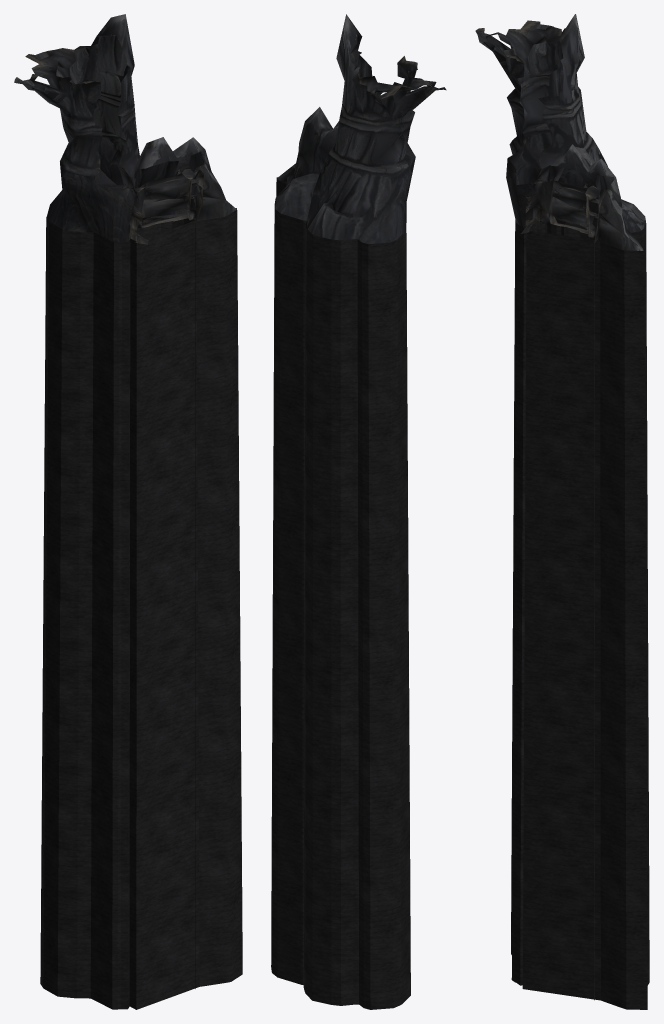
File: horaro_rock_pillar_3.glb
3 renders of one model, left to right at view 1: azimuth 30°, elevation 25°; view 2: azimuth 150°, elevation 25°; view 3: azimuth 330°, elevation 25°, orthographic.
Parts seen in each view (by area): view 1: horaro_rock_pillar_3_L1_foundation, horaro_rock_pillar_3; view 2: horaro_rock_pillar_3_L1_foundation, horaro_rock_pillar_3; view 3: horaro_rock_pillar_3_L1_foundation, horaro_rock_pillar_3.
Boxes of the visible parts, x1,y1,x2,y2 form: horaro_rock_pillar_3_L1_foundation: [40, 207, 242, 1009]; horaro_rock_pillar_3: [14, 14, 236, 244]; horaro_rock_pillar_3_L1_foundation: [271, 177, 410, 1009]; horaro_rock_pillar_3: [274, 14, 446, 243]; horaro_rock_pillar_3_L1_foundation: [511, 187, 649, 1009]; horaro_rock_pillar_3: [475, 14, 645, 250].
Size of the model in its own units: 3.39 by 15.56 by 2.05.
2 materials, 2 textured.
